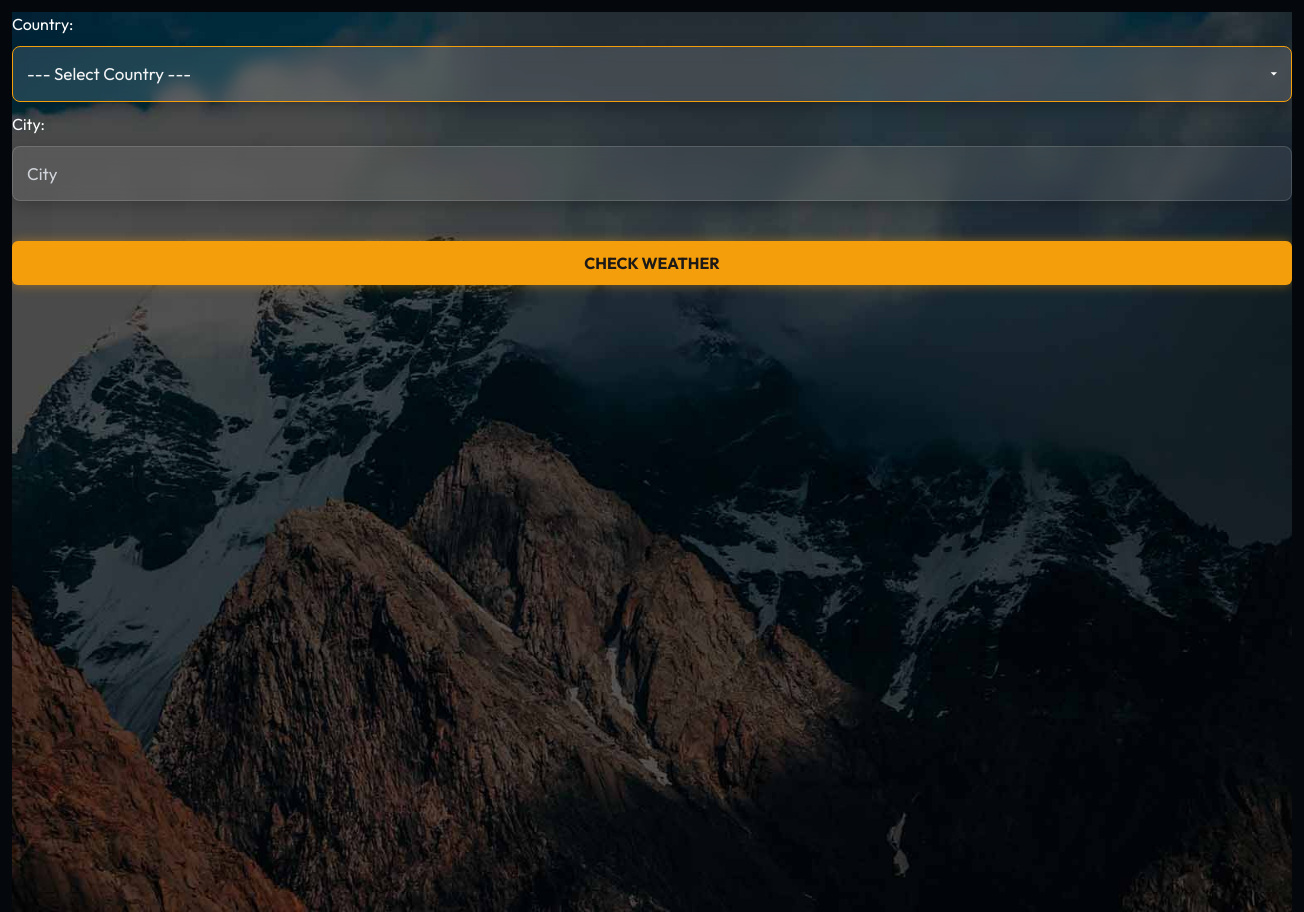
Scenario: Form › asks for the city when only the country is chosen
Select "Colombia" in the dropdown labelled "Country:": (652, 74) [12,46,1292,102]
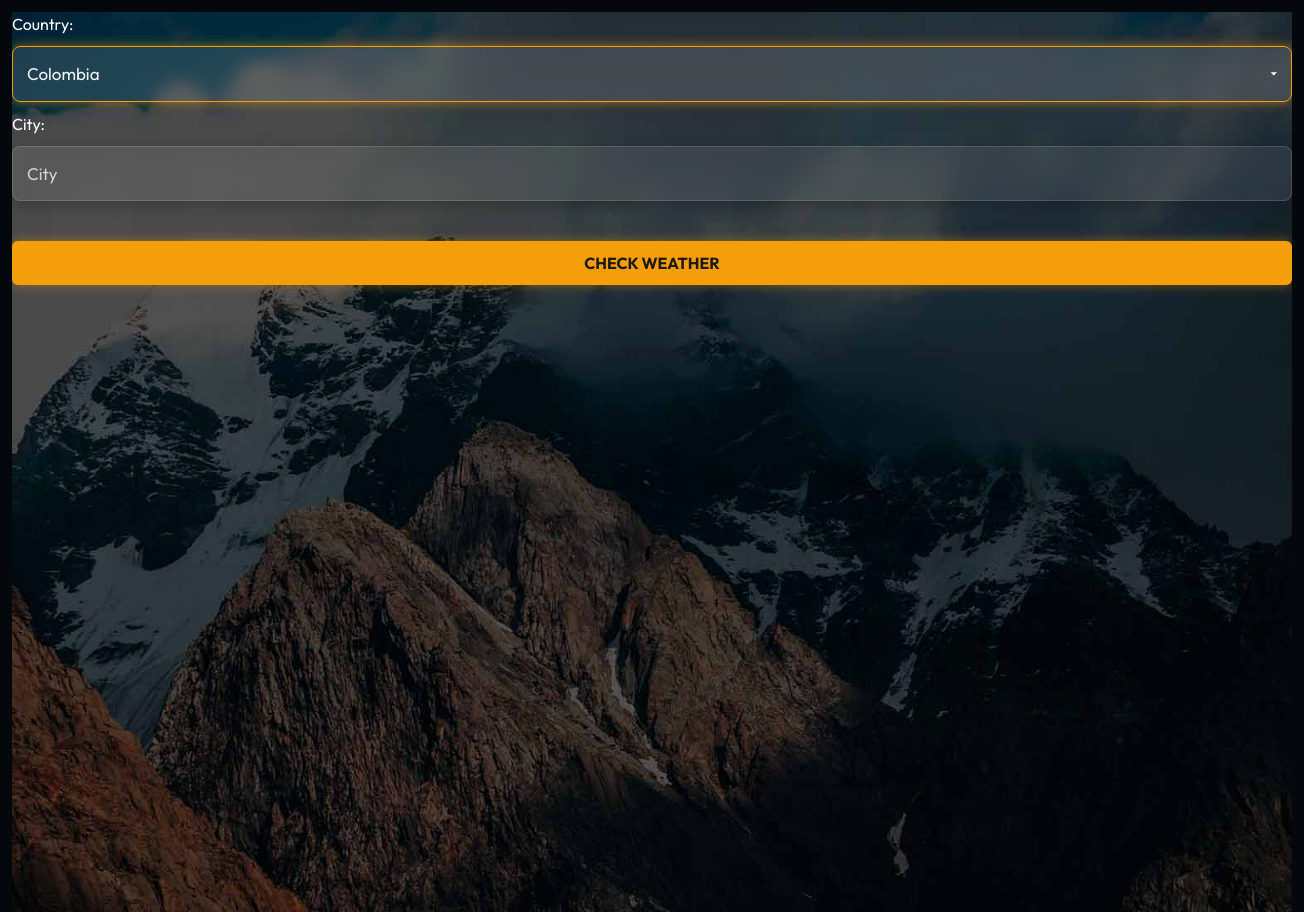
Click the button "Check weather": (652, 263) [12,241,1292,285]
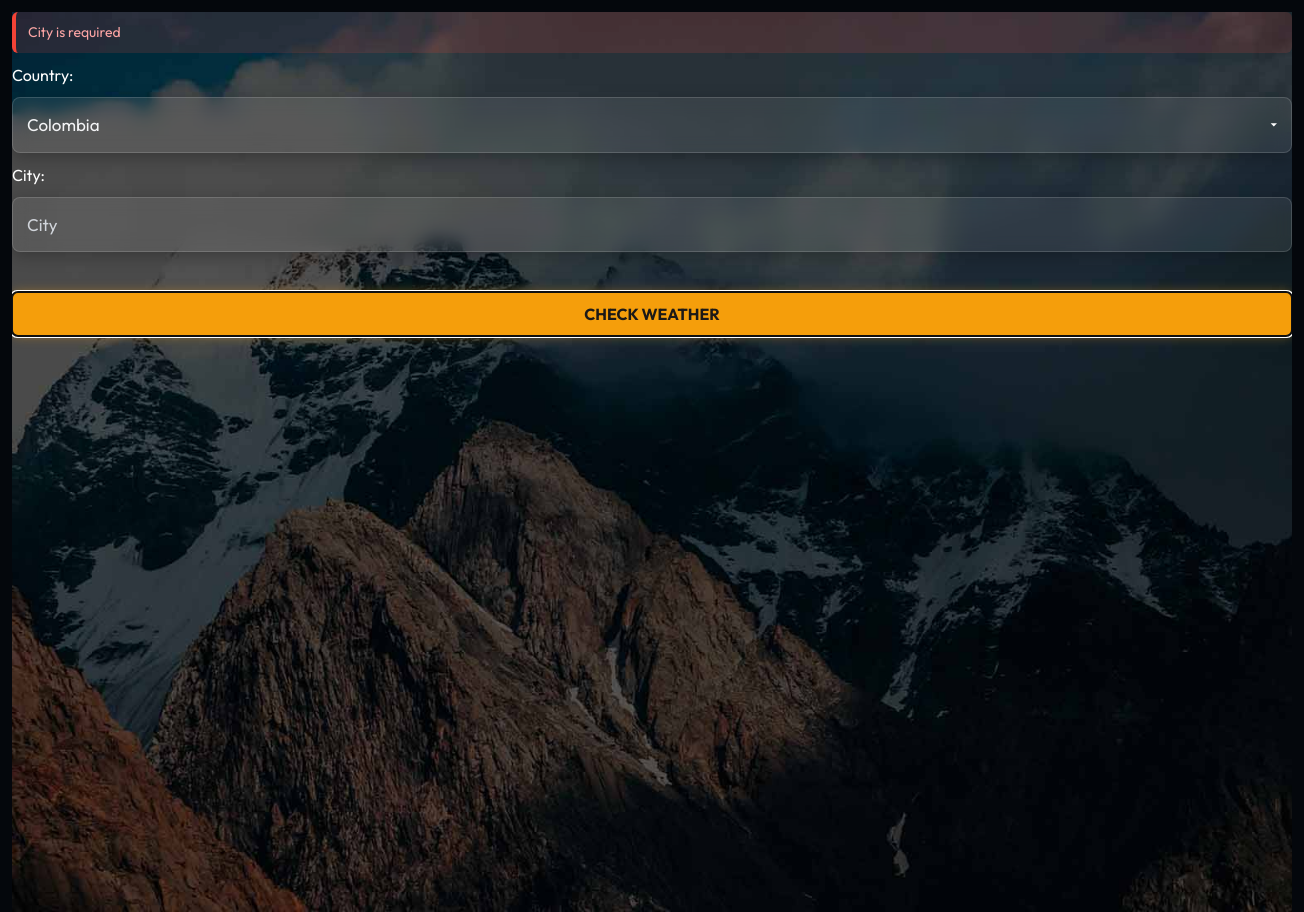
Expected: the message reads "City is required", [28,23,120,41]
